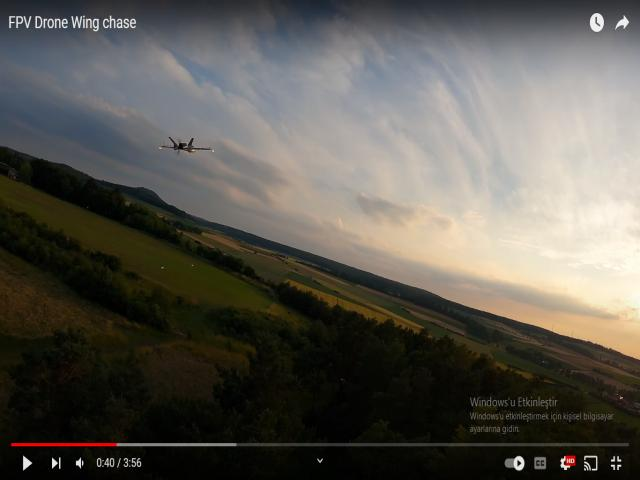plane: (157, 136, 214, 160)
